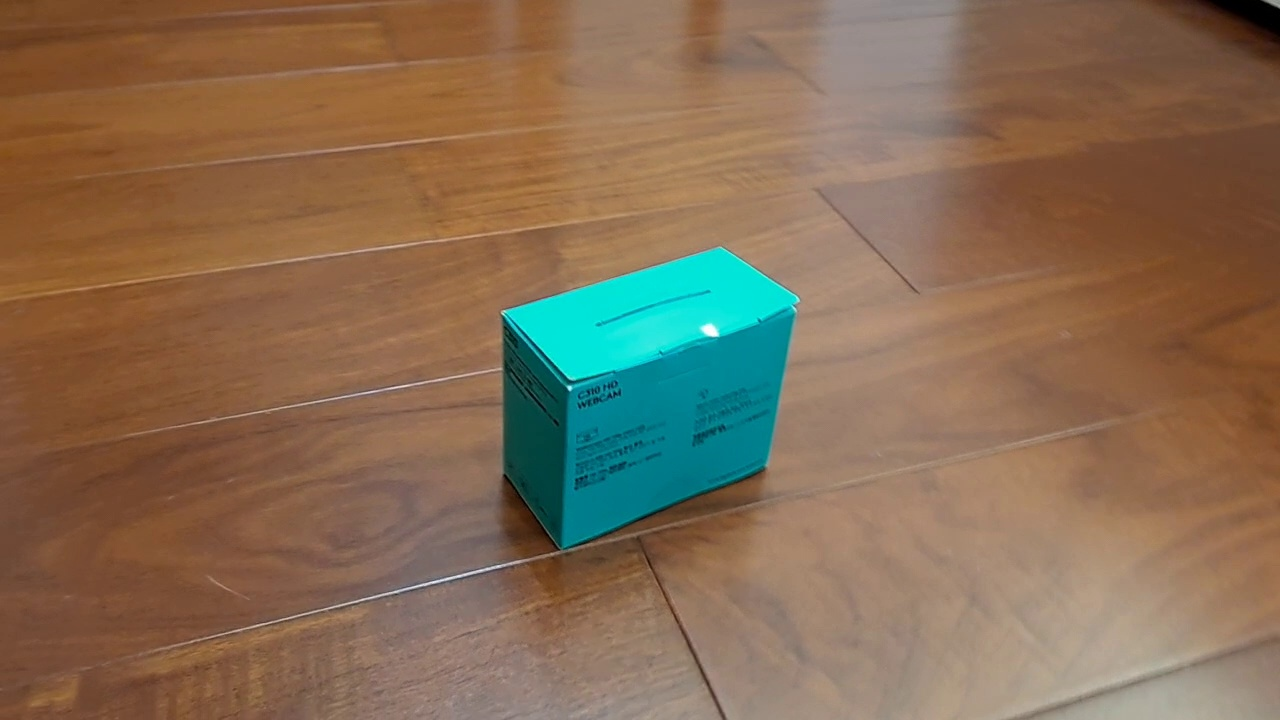webcam: (498, 244, 801, 552)
